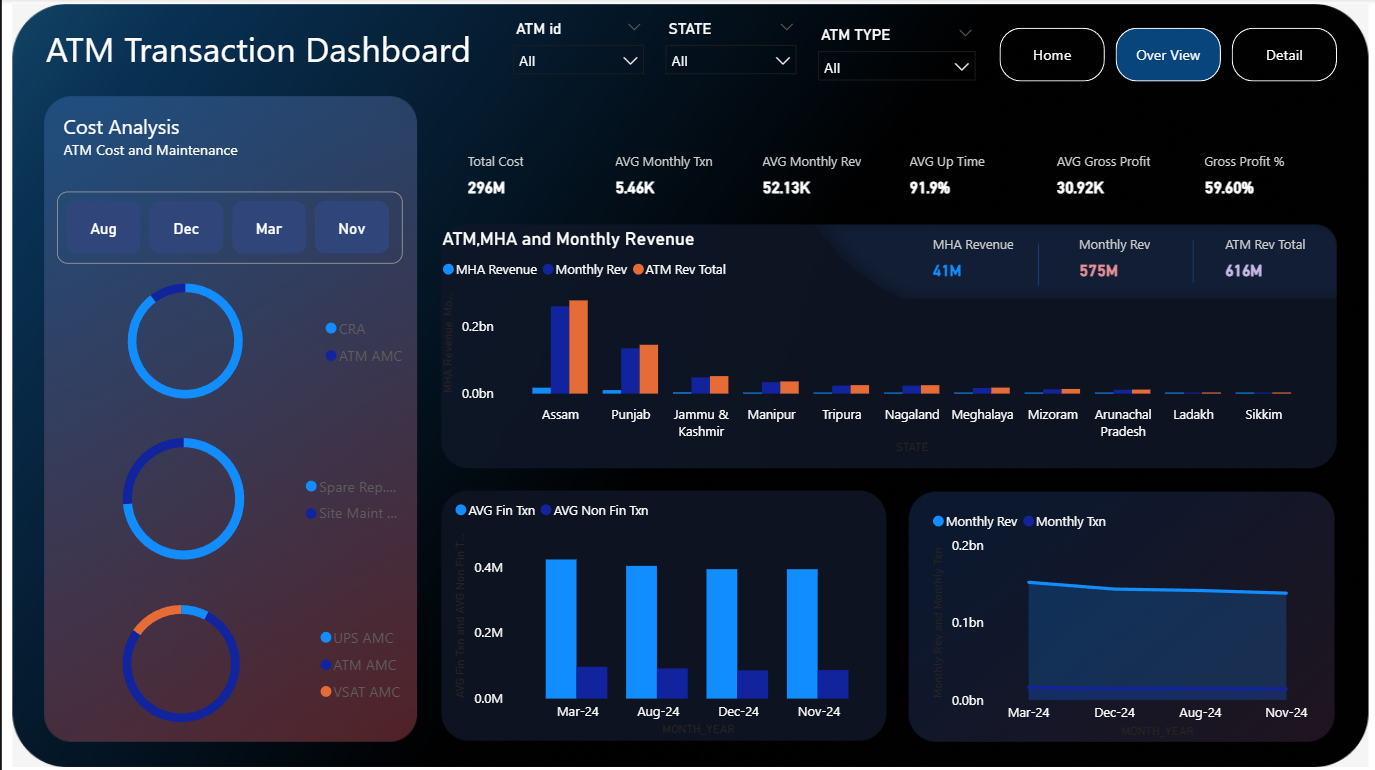

Layout of this report page (visuals, bound fields, positions):
{"tool":"powerbi","page":{"name":"Over View","canvas":[1280,720],"ordinal":1},"visuals":[{"type":"shape","box":[328.6,77.1,841.4,325.7],"z":0},{"type":"shape","box":[33.3,89.3,352,601.3],"z":1000},{"type":"image","box":[0,0,1280.3,719.1],"z":2000},{"type":"donutChart","fields":{"Y":["Sum(DATASET.CRA)","Sum(DATASET.ATM AMC)"]},"box":[36.2,246.2,351.2,143.8],"z":3000},{"type":"donutChart","fields":{"Y":["Sum(DATASET.Spare Rep.(UPS))","Sum(DATASET.Site Maint (Non Asset))"]},"box":[51.2,390,333.8,151.2],"z":4000},{"type":"donutChart","fields":{"Y":["Sum(DATASET.UPS AMC)","Sum(DATASET.ATM AMC)","Sum(DATASET.VSAT AMC)"]},"box":[33.8,545,351.2,146.2],"z":5000},{"type":"clusteredColumnChart","title":"ATM,MHA and Monthly Revenue","fields":{"Y":["Sum(DATASET.MHA Revenue)","Sum(DATASET.Monthly Rev)","Sum(DATASET.ATM Rev Total)"],"Category":["DATASET.STATE"]},"box":[404.8,212.4,826.7,215.3],"z":6000},{"type":"clusteredColumnChart","fields":{"Y":["Sum(DATASET.AVG Fin Txn)","Sum(DATASET.AVG Non Fin Txn)"],"Category":["DATASET.MONTH_YEAR"]},"box":[416.2,456.2,408.8,235],"z":7000},{"type":"areaChart","fields":{"Category":["DATASET.MONTH_YEAR"],"Y":["Sum(DATASET.Monthly Rev)","Sum(DATASET.Monthly Txn)"]},"box":[860,465.7,371.4,225.7],"z":8000},{"type":"advancedSlicerVisual","fields":{"Values":["DATASET.SHORT_MONTH"]},"box":[51.4,178.6,321.4,67.1],"z":9000},{"type":"textbox","box":[52.9,101.4,321.4,77.1],"z":10000},{"type":"cardVisual","fields":{"Data":["Sum(DATASET. Total Cost  )","Avg(DATASET.Monthly Txn)","Avg(DATASET.Monthly Rev)","Avg(DATASET.Up Time)","Avg(DATASET. Gross Profit )","DATASET.Gross Profit Percentage"]},"box":[416.3,124.4,826.7,77.9],"z":11000},{"type":"cardVisual","title":"Title","fields":{"Data":["Sum(DATASET.MHA Revenue)","Sum(DATASET.Monthly Rev)","Sum(DATASET.ATM Rev Total)"]},"box":[848.8,196.5,412.8,87.2],"z":12000},{"type":"pageNavigator","box":[927.9,26.7,315.1,50],"z":13000},{"type":"textbox","box":[35.9,20.1,417.7,68.9],"z":14000},{"type":"slicer","fields":{"Values":["DATASET.ATM TYPE"]},"box":[749.2,20.1,166.5,63.2],"z":15000},{"type":"slicer","fields":{"Values":["DATASET.STATE"]},"box":[607.1,14.4,142.1,63.2],"z":16000},{"type":"slicer","fields":{"Values":["DATASET.ATM id"]},"box":[465,14.4,142.1,63.2],"z":17000}]}

Visuals, with their boxes in screenshot pixels (x1, y1, x2, y2), scaled from the page's 1280x720 canvas onto the 1375x770 screenshot:
shape: rect(353, 82, 1257, 431)
shape: rect(36, 96, 414, 739)
image: rect(0, 0, 1374, 769)
donutChart - Sum(DATASET.CRA) x Sum(DATASET.ATM AMC): rect(39, 263, 416, 417)
donutChart - Sum(DATASET.Spare Rep.(UPS)) x Sum(DATASET.Site Maint (Non Asset)): rect(55, 417, 414, 579)
donutChart - Sum(DATASET.UPS AMC) x Sum(DATASET.ATM AMC): rect(36, 583, 414, 739)
"ATM,MHA and Monthly Revenue" clusteredColumnChart: rect(435, 227, 1323, 457)
clusteredColumnChart - Sum(DATASET.AVG Fin Txn) x Sum(DATASET.AVG Non Fin Txn): rect(447, 488, 886, 739)
areaChart - DATASET.MONTH_YEAR x Sum(DATASET.Monthly Rev): rect(924, 498, 1323, 739)
advancedSlicerVisual - DATASET.SHORT_MONTH: rect(55, 191, 400, 263)
textbox: rect(57, 108, 402, 191)
cardVisual - Sum(DATASET. Total Cost  ) x Avg(DATASET.Monthly Txn): rect(447, 133, 1335, 216)
"Title" cardVisual: rect(912, 210, 1355, 303)
pageNavigator: rect(997, 29, 1335, 82)
textbox: rect(39, 21, 487, 95)
slicer - DATASET.ATM TYPE: rect(805, 21, 984, 89)
slicer - DATASET.STATE: rect(652, 15, 805, 83)
slicer - DATASET.ATM id: rect(500, 15, 652, 83)
